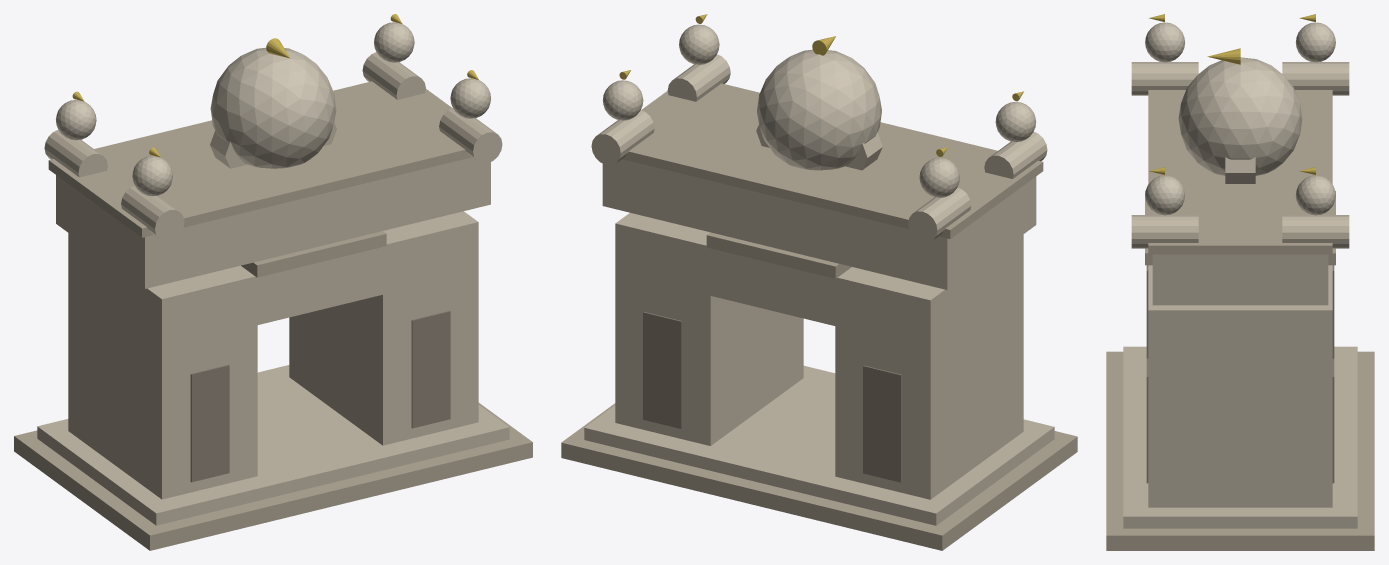
The model's file is gateway-of-india.glb.
3 views of the same model, side by side, from view 1: azimuth 30°, elevation 25°; view 2: azimuth 150°, elevation 25°; view 3: azimuth 270°, elevation 25° (orthographic).
Visible parts, largest first — view 1: geometry_2, geometry_3, geometry_9, geometry_8, geometry_1, geometry_0, geometry_11, geometry_6, geometry_4, geometry_5, geometry_7, geometry_22 (+8 smaller); view 2: geometry_2, geometry_3, geometry_9, geometry_8, geometry_1, geometry_0, geometry_11, geometry_6, geometry_4, geometry_5, geometry_7, geometry_13 (+8 smaller); view 3: geometry_3, geometry_9, geometry_1, geometry_0, geometry_11, geometry_8, geometry_19, geometry_22, geometry_13, geometry_16, geometry_14, geometry_17 (+6 smaller).
Boxes of the visible parts, bbox=[...] form: geometry_2: bbox=[68, 233, 257, 499]; geometry_3: bbox=[289, 211, 478, 445]; geometry_9: bbox=[48, 81, 471, 237]; geometry_8: bbox=[56, 157, 490, 288]; geometry_1: bbox=[37, 365, 509, 525]; geometry_0: bbox=[14, 403, 532, 550]; geometry_11: bbox=[210, 47, 336, 168]; geometry_6: bbox=[257, 247, 383, 324]; geometry_4: bbox=[190, 364, 229, 482]; geometry_5: bbox=[411, 310, 450, 428]; geometry_7: bbox=[241, 231, 386, 277]; geometry_22: bbox=[439, 108, 502, 163]; geometry_2: bbox=[835, 234, 1023, 499]; geometry_3: bbox=[615, 213, 803, 445]; geometry_9: bbox=[622, 83, 1043, 238]; geometry_8: bbox=[602, 159, 1036, 289]; geometry_1: bbox=[584, 365, 1054, 525]; geometry_0: bbox=[561, 403, 1077, 550]; geometry_11: bbox=[757, 49, 881, 170]; geometry_6: bbox=[710, 248, 835, 325]; geometry_4: bbox=[863, 365, 901, 482]; geometry_5: bbox=[643, 312, 681, 428]; geometry_7: bbox=[706, 232, 851, 278]; geometry_13: bbox=[908, 187, 971, 242]; geometry_3: bbox=[1148, 265, 1332, 507]; geometry_9: bbox=[1148, 90, 1332, 254]; geometry_1: bbox=[1123, 346, 1357, 528]; geometry_0: bbox=[1106, 351, 1374, 550]; geometry_11: bbox=[1178, 57, 1302, 175]; geometry_8: bbox=[1152, 254, 1328, 305]; geometry_19: bbox=[1282, 215, 1349, 248]; geometry_22: bbox=[1131, 215, 1198, 248]; geometry_13: bbox=[1282, 62, 1349, 95]; geometry_16: bbox=[1131, 62, 1198, 95]; geometry_14: bbox=[1295, 22, 1335, 62]; geometry_17: bbox=[1145, 22, 1185, 62].
Size of the model in its own units: 26 by 27 by 16.
